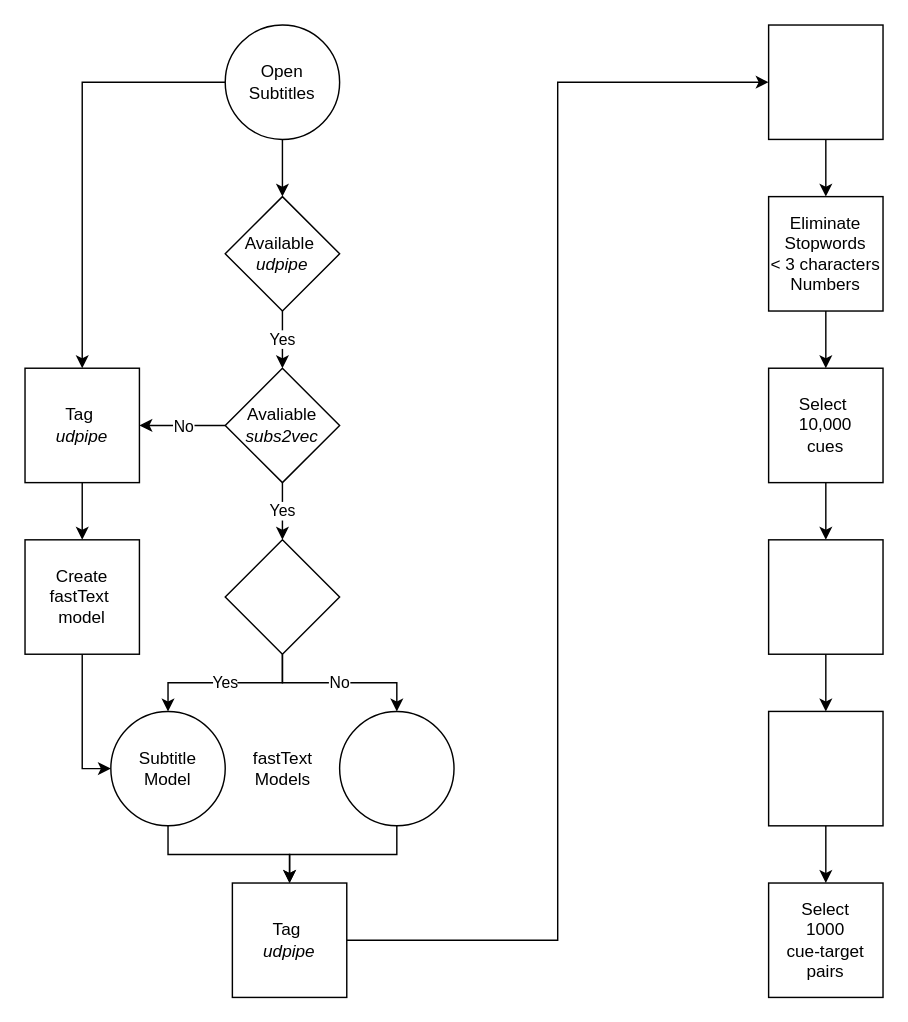
The diagram is 908 pixels wide and 1022 high, and some of its shapes have lost their labels. The centre of each missing label's shape, as x and y in pixels:
50k unique words?: (282,596)
Combined Model: (396,768)
Cross-reference across languages: (825,768)
Select nouns, adjectives, adverbs, vebs: (825,81)
Select top 5 cosine related targets: (825,596)
